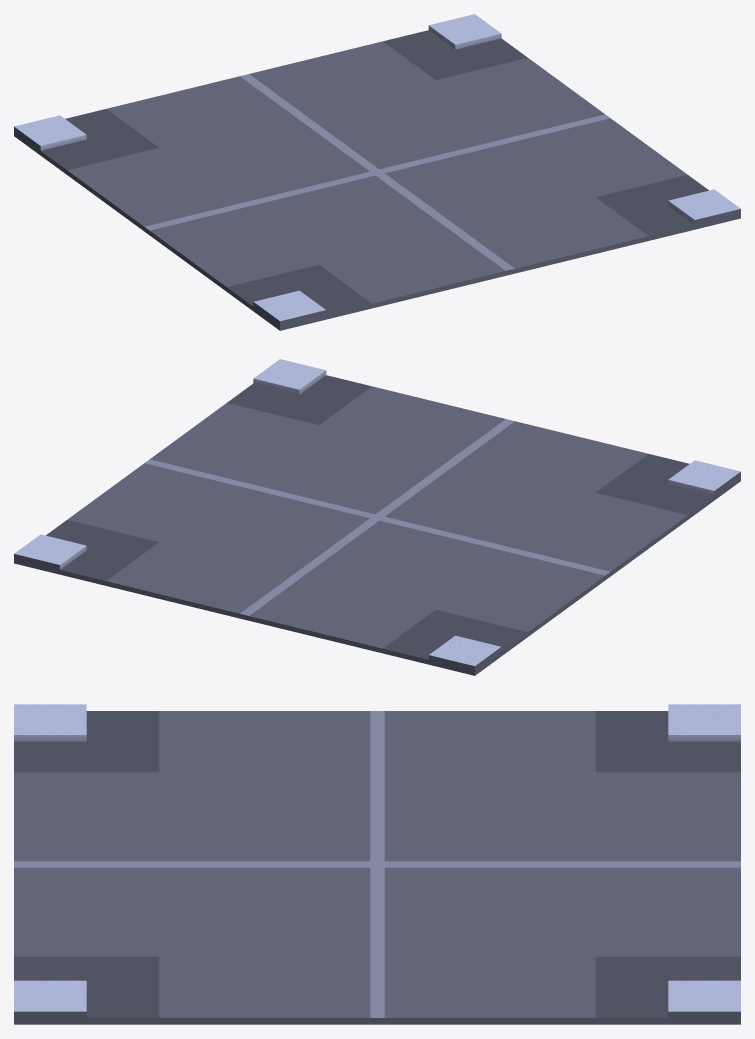
Rendered from road-crossroad-line.glb.
3 renders of one model, top to bottom at view 1: azimuth 30°, elevation 25°; view 2: azimuth 150°, elevation 25°; view 3: azimuth 270°, elevation 25°, orthographic. The views are drawn at different scales.
Parts seen in each view (by area): view 1: road-crossroad-line; view 2: road-crossroad-line; view 3: road-crossroad-line.
Boxes of the visible parts, x1,y1,x2,y2 form: road-crossroad-line: (14,14,740,330); road-crossroad-line: (14,359,740,675); road-crossroad-line: (14,704,740,1024).
Bounding box in the file's own units: 1 × 0.02 × 1.
